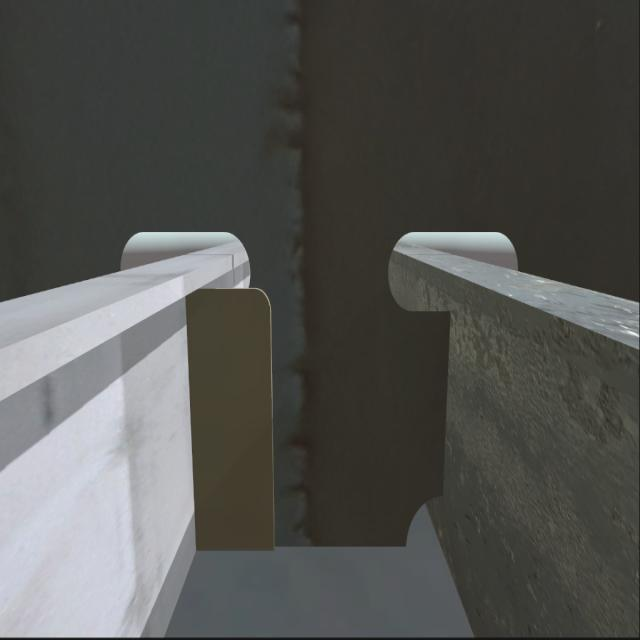fillet_hole: (406, 496, 446, 546)
fillet_yong_jeop_jang: (184, 531, 417, 561)
longi_yong_jeop_jang: (434, 307, 458, 497), (186, 286, 200, 555)
plate_CP05: (194, 284, 274, 548)
